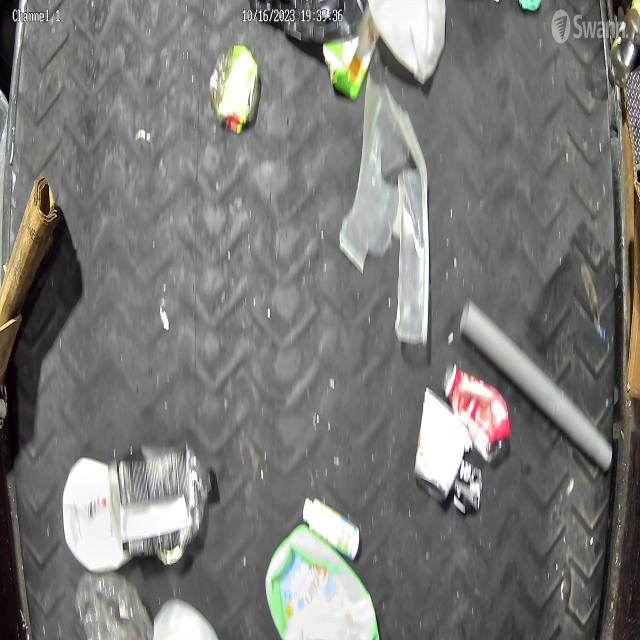can: (413, 386, 469, 505), (208, 44, 261, 129)
milk_jug: (368, 0, 448, 86)
non_white_jug: (263, 522, 380, 640)
plastic_bottle: (109, 441, 216, 556)
